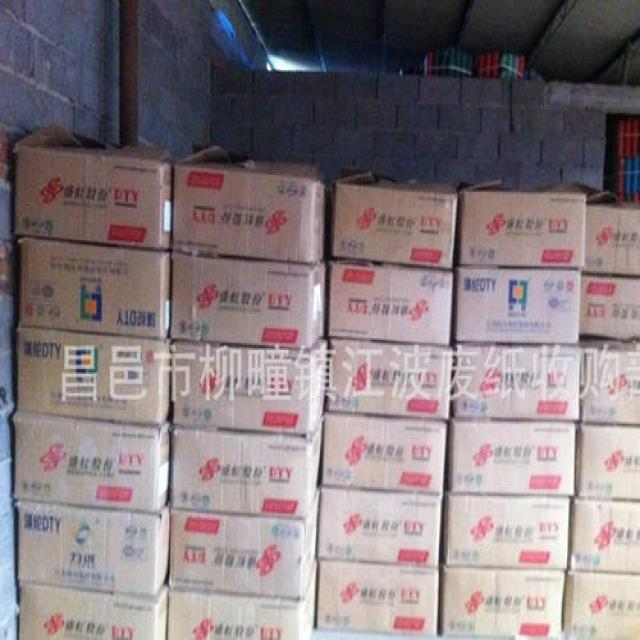box: (13, 124, 175, 249), (172, 142, 328, 261), (12, 405, 173, 513), (169, 486, 321, 599), (169, 414, 326, 518), (168, 249, 326, 350), (172, 336, 328, 438), (18, 237, 172, 340), (15, 326, 172, 427), (13, 499, 169, 599), (329, 165, 460, 269), (166, 556, 317, 640), (456, 178, 588, 269), (325, 256, 453, 348), (323, 412, 451, 498), (445, 419, 582, 498), (451, 266, 582, 347), (449, 341, 582, 420), (326, 336, 452, 419), (317, 489, 447, 568), (18, 575, 168, 640), (440, 498, 573, 571), (317, 559, 439, 637), (439, 566, 570, 638), (570, 498, 640, 573), (563, 571, 640, 638), (580, 340, 640, 424), (582, 189, 639, 276), (577, 422, 640, 499), (580, 275, 640, 341)
